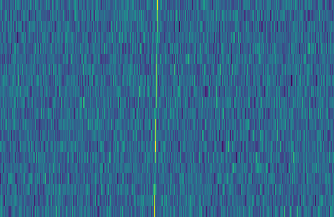signal: (150, 0, 162, 217)
